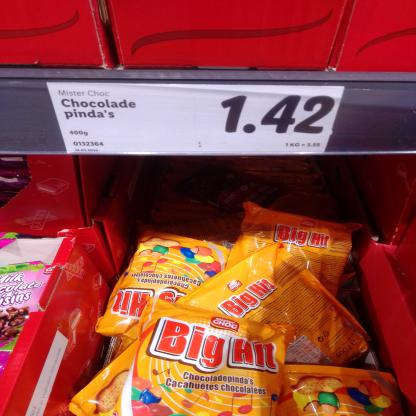prtg: (47, 83, 346, 154)
